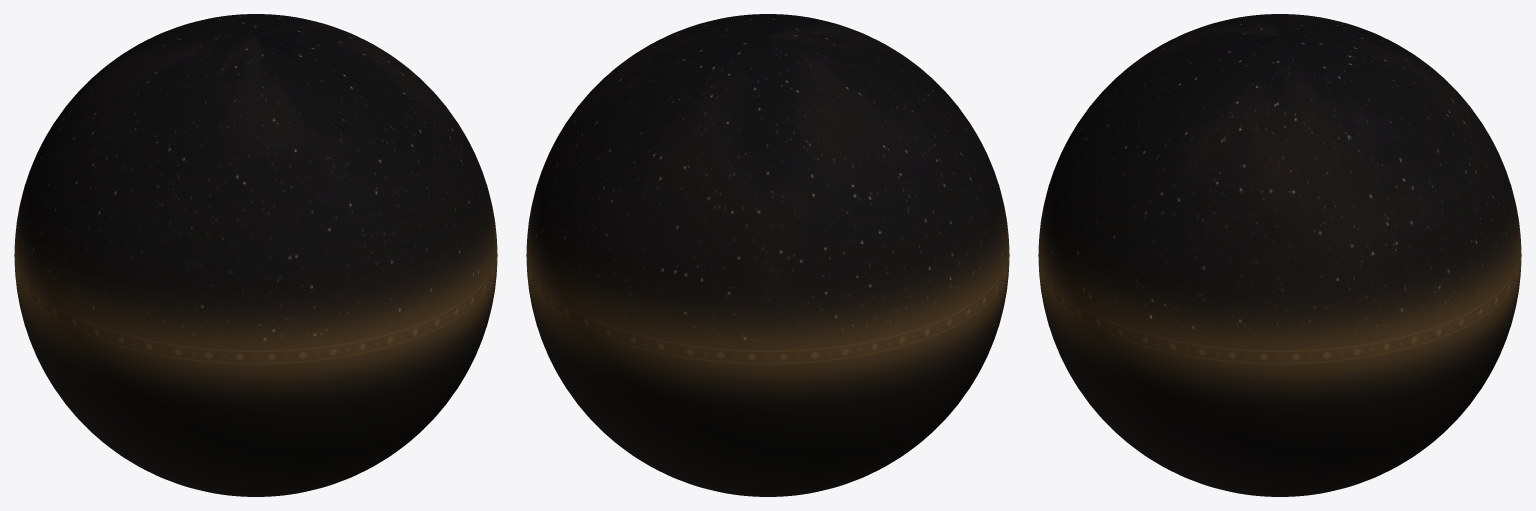
Rendered from loading_dome_dark_8192.obj.
3 renders of one model, left to right at view 1: azimuth 30°, elevation 25°; view 2: azimuth 150°, elevation 25°; view 3: azimuth 270°, elevation 25°, orthographic.
Size of the model in its own units: 40 by 40 by 40.
1 material, 1 textured.
